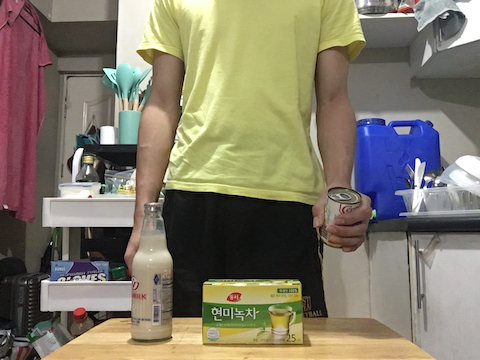bottle: (125, 199, 179, 344)
box: (197, 275, 309, 347)
can: (318, 184, 365, 250)
grab: (326, 192, 374, 253)
